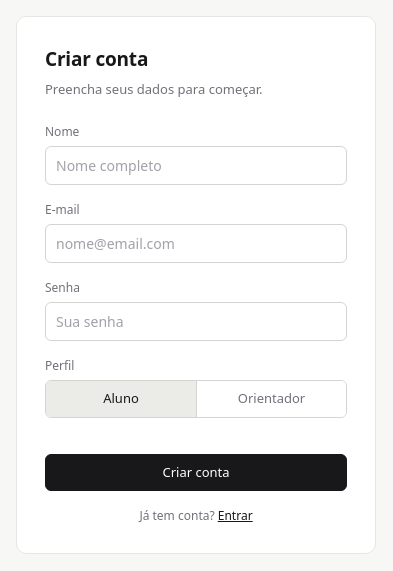
Test case: Cadastro (US01) › leva ao login com aviso quando a conta nasce mas o login automático falha
Type "Pedro Lopes" into the field labelled "Nome" at [196, 166], box left=45, top=146, right=347, bottom=185
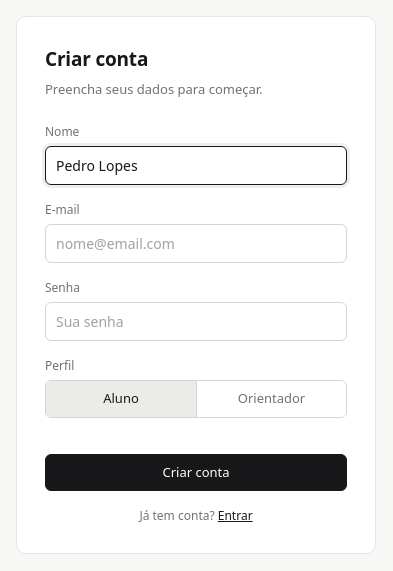
Type "pedro@aluno.edu.br" into the field labelled "E-mail" at [196, 244], box left=45, top=224, right=347, bottom=263
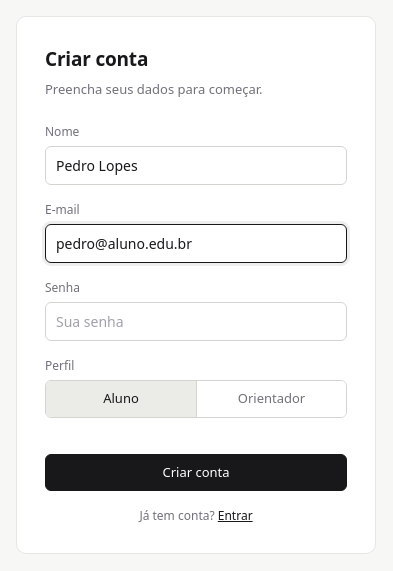
Type "TccSprint3!" into the password field labelled "Senha" at [196, 322], box left=45, top=302, right=347, bottom=341
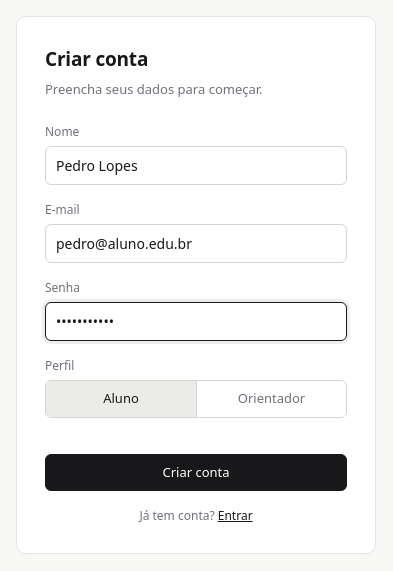
Click the button "Criar conta" at [196, 472], box left=45, top=454, right=347, bottom=491
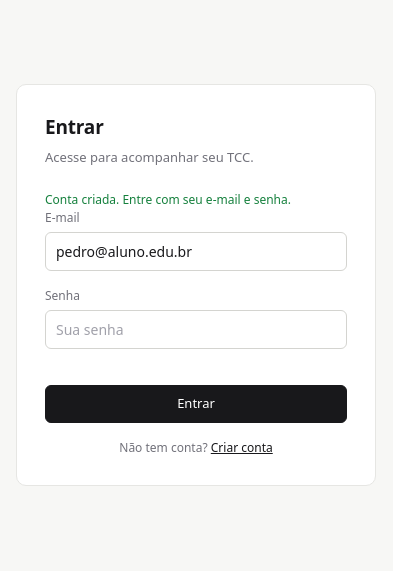
Check: the field labelled "E-mail" holds "pedro@aluno.edu.br", box left=45, top=232, right=347, bottom=271
Check: the text "Conta criada. Entre com seu e-mail e senha." is shown, box left=45, top=191, right=291, bottom=208
